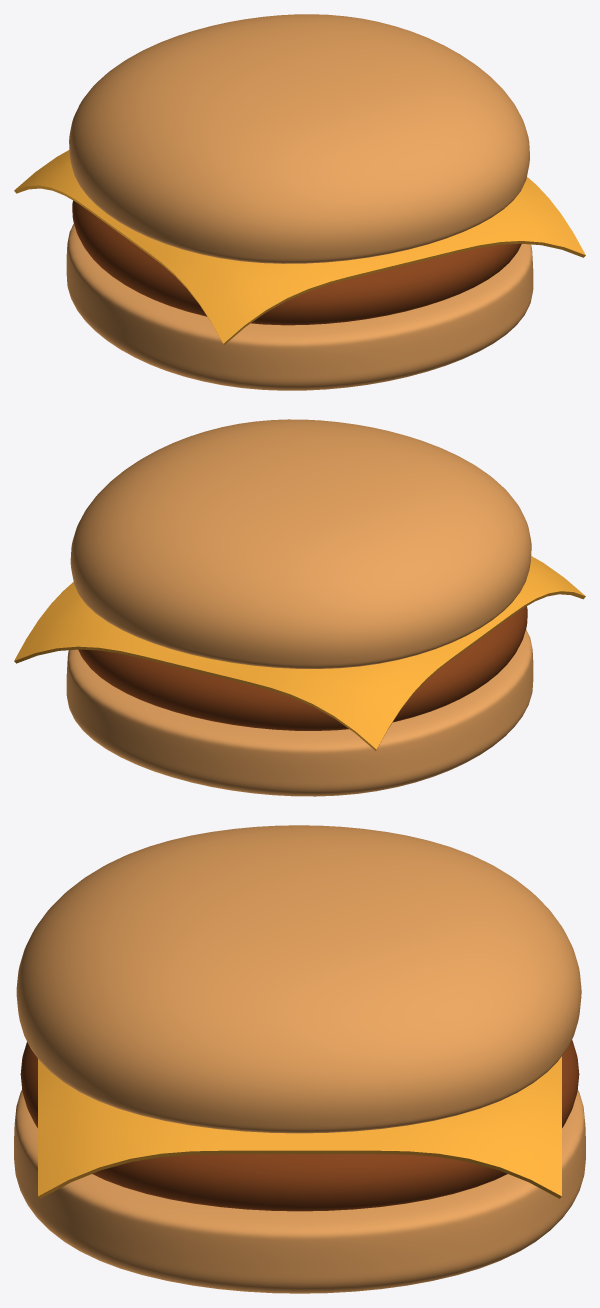
Rendered from 24-hamburger.glb.
The picture shows the model from 3 angles, top to bottom: view 1: azimuth 30°, elevation 25°; view 2: azimuth 150°, elevation 25°; view 3: azimuth 270°, elevation 25°; orthographic projection. The views are drawn at different scales.
Visible parts, largest first — view 1: Cube.002, Cube, Plane, Cube.001; view 2: Cube.002, Cube, Plane, Cube.001; view 3: Cube.002, Cube, Plane, Cube.001.
Boxes of the visible parts, x1=… form: Cube.002: x1=69, y1=14, x2=529, y2=263; Cube: x1=66, y1=223, x2=533, y2=390; Plane: x1=14, y1=150, x2=585, y2=344; Cube.001: x1=72, y1=200, x2=521, y2=325; Cube.002: x1=70, y1=419, x2=531, y2=668; Cube: x1=66, y1=629, x2=533, y2=796; Plane: x1=14, y1=556, x2=585, y2=750; Cube.001: x1=78, y1=606, x2=527, y2=730; Cube.002: x1=16, y1=825, x2=581, y2=1133; Cube: x1=14, y1=1089, x2=585, y2=1293; Plane: x1=38, y1=1056, x2=561, y2=1198; Cube.001: x1=20, y1=1040, x2=579, y2=1211.
Bounding box in the file's own units: 9.16 × 5.59 × 9.16.
